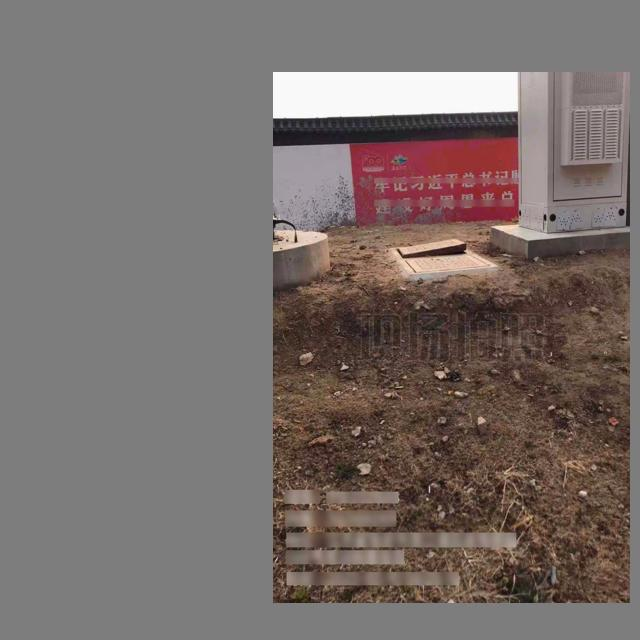uncovered: (392, 234, 501, 271)
